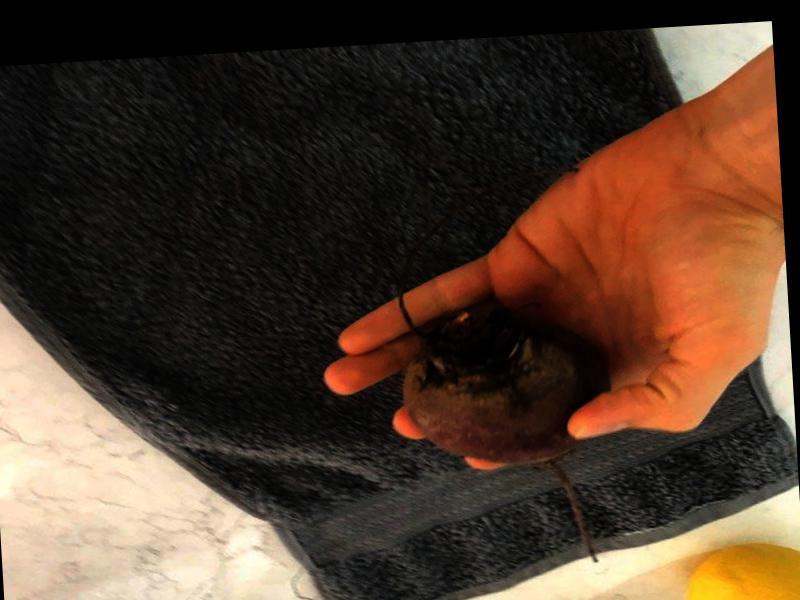Beet: (401, 295, 621, 572)
